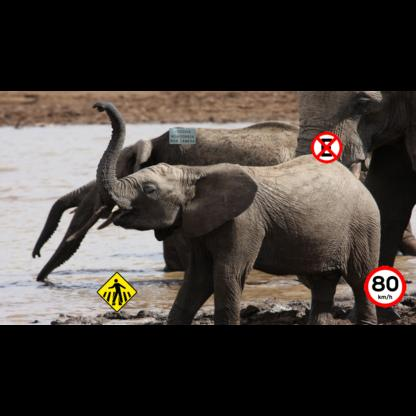A-32b: (96, 271, 138, 313)
I-E: (169, 128, 196, 144)
R-19: (364, 266, 406, 308)
R-6c: (311, 132, 342, 164)
